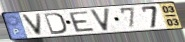7: (140, 5, 160, 29), (119, 7, 138, 30)
D: (43, 12, 68, 36)
E: (68, 10, 97, 33)
V: (88, 7, 111, 33), (20, 13, 44, 37)
